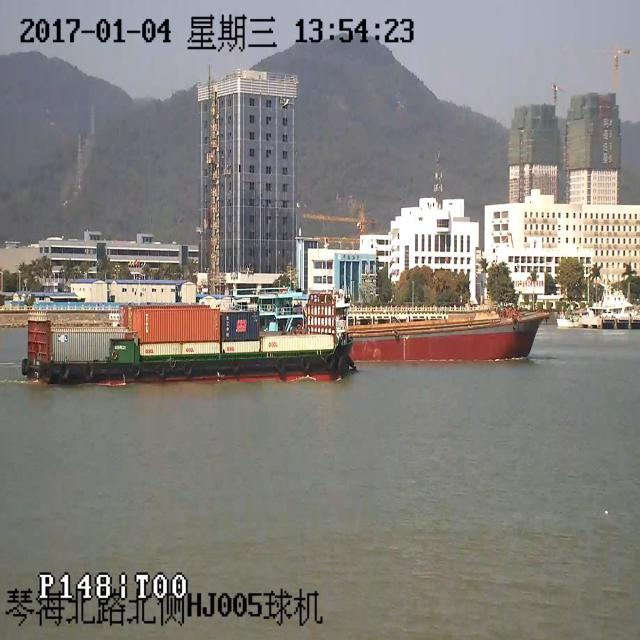cargoship: (31, 285, 357, 389), (363, 290, 548, 354)
